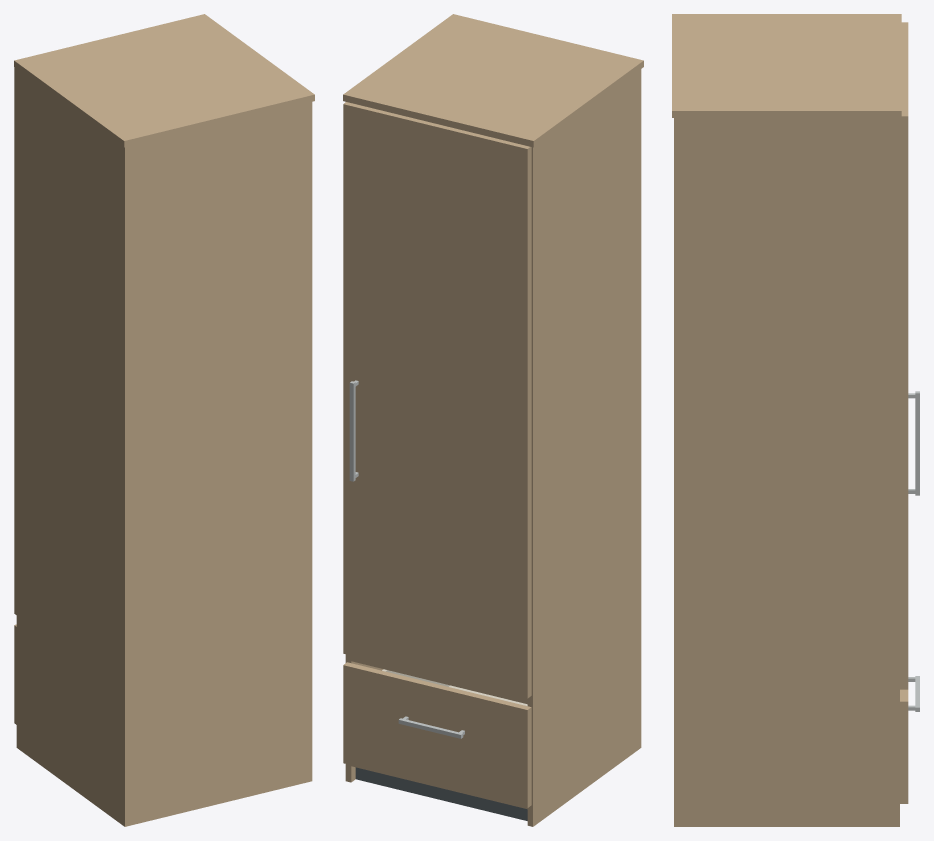
Rendered from wardrobe.fbx.
The picture shows the model from 3 angles, left to right: view 1: azimuth 30°, elevation 25°; view 2: azimuth 150°, elevation 25°; view 3: azimuth 270°, elevation 25°; orthographic projection. The views are drawn at different scales.
Visible parts, largest first — view 1: wardrobe; view 2: wardrobe; view 3: wardrobe.
Part boxes in pixels (x1,y1,x2,y2): wardrobe: (14, 14, 314, 826); wardrobe: (343, 14, 643, 826); wardrobe: (672, 14, 919, 826).
Bounding box in the file's own units: 61 × 210 × 65.8.
